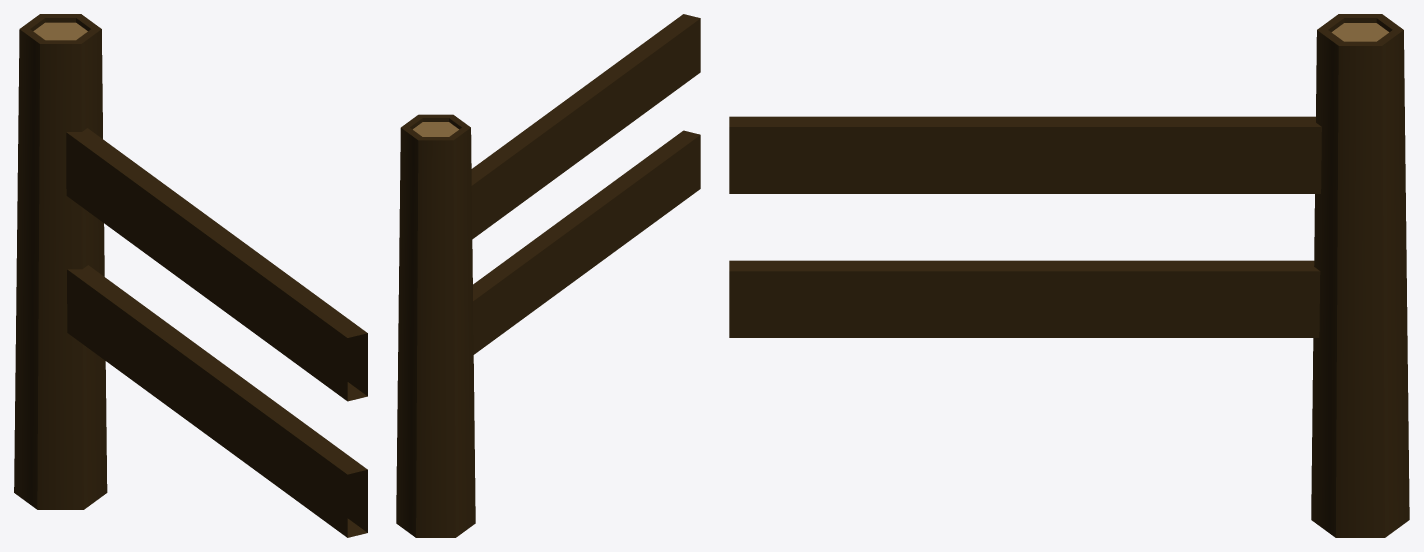
The model's file is FarmFenceExtend.fbx.
3 views of the same model, side by side, from view 1: azimuth 30°, elevation 25°; view 2: azimuth 150°, elevation 25°; view 3: azimuth 270°, elevation 25° (orthographic). The views are drawn at different scales.
Parts seen in each view (by area): view 1: FarmFenceExtend; view 2: FarmFenceExtend; view 3: FarmFenceExtend.
Part boxes in pixels (left/top/right/bottom): FarmFenceExtend: left=14, top=14, right=367, bottom=537; FarmFenceExtend: left=396, top=14, right=700, bottom=537; FarmFenceExtend: left=729, top=14, right=1409, bottom=537.
Size of the model in its own units: 0.2072 by 1.31 by 1.65.
